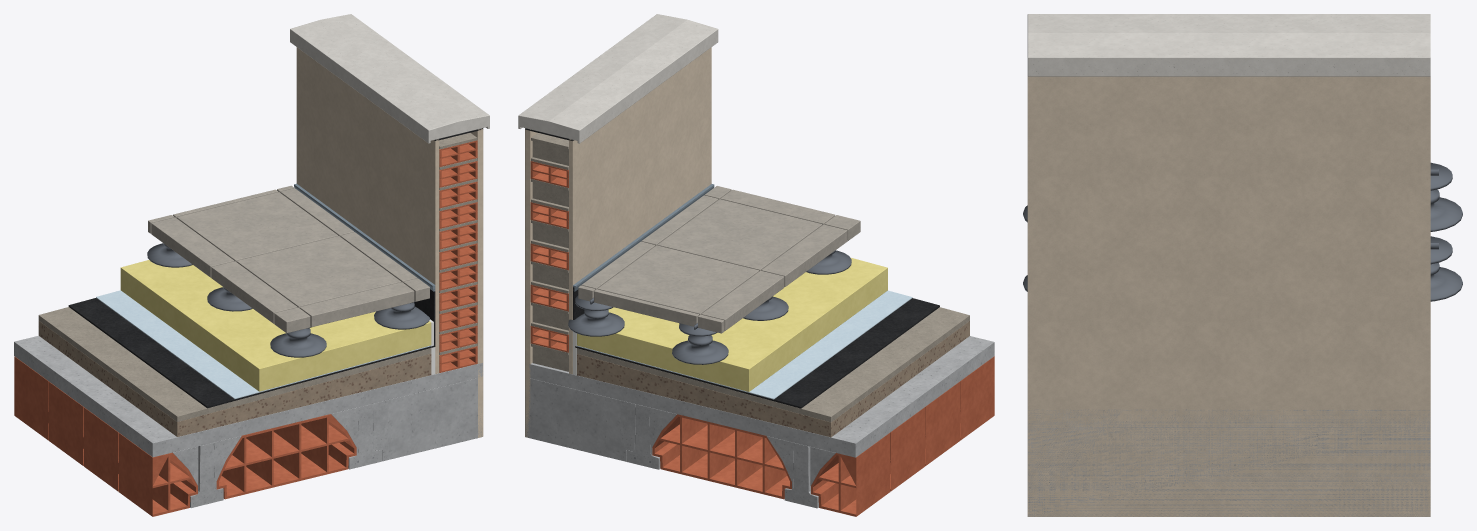
File: detalle4_invertida_plots.glb
3 renders of one model, left to right at view 1: azimuth 30°, elevation 25°; view 2: azimuth 150°, elevation 25°; view 3: azimuth 270°, elevation 25°, orthographic. The views are drawn at different scales.
Visible parts, largest first — view 1: D4_Peto_Enfoscado, D4_Losas, D4_SR_Bovedillas, D4_SR_Forjado, D4_AT_XPS, D4_Albardilla, D4_Peto_Bricks, D4_FP_Core, D4_FP_Reg, D4_I_Membrane, D4_SR_Zuncho, D4_CS_Geotextile (+1 smaller); view 2: D4_Peto_Enfoscado, D4_Losas, D4_SR_Bovedillas, D4_SR_Forjado, D4_AT_XPS, D4_Albardilla, D4_FP_Core, D4_FP_Reg, D4_I_Membrane, D4_SR_Zuncho, D4_Plots, D4_CS_Geotextile (+1 smaller); view 3: D4_Peto_Enfoscado, D4_Albardilla, D4_SR_Zuncho, D4_SR_Forjado, D4_Plots.
Boxes of the visible parts, left/top/right/bottom form: D4_Peto_Enfoscado: left=296, top=47, right=483, bottom=437; D4_Losas: left=148, top=185, right=429, bottom=333; D4_SR_Bovedillas: left=14, top=356, right=356, bottom=516; D4_SR_Forjado: left=14, top=335, right=483, bottom=507; D4_AT_XPS: left=120, top=260, right=431, bottom=391; D4_Albardilla: left=290, top=14, right=489, bottom=143; D4_Peto_Bricks: left=439, top=140, right=477, bottom=372; D4_FP_Core: left=38, top=321, right=431, bottom=436; D4_FP_Reg: left=38, top=307, right=431, bottom=421; D4_I_Membrane: left=68, top=183, right=435, bottom=408; D4_SR_Zuncho: left=387, top=378, right=482, bottom=459; D4_CS_Geotextile: left=96, top=290, right=431, bottom=399; D4_Peto_Enfoscado: left=525, top=47, right=711, bottom=437; D4_Losas: left=578, top=186, right=860, bottom=333; D4_SR_Bovedillas: left=652, top=356, right=994, bottom=516; D4_SR_Forjado: left=529, top=336, right=994, bottom=508; D4_AT_XPS: left=577, top=257, right=887, bottom=391; D4_Albardilla: left=518, top=14, right=718, bottom=143; D4_FP_Core: left=577, top=321, right=969, bottom=437; D4_FP_Reg: left=577, top=307, right=969, bottom=422; D4_I_Membrane: left=573, top=184, right=939, bottom=408; D4_SR_Zuncho: left=525, top=378, right=620, bottom=460; D4_Plots: left=568, top=250, right=851, bottom=364; D4_CS_Geotextile: left=577, top=290, right=912, bottom=399; D4_Peto_Enfoscado: left=1027, top=76, right=1430, bottom=516; D4_Albardilla: left=1027, top=14, right=1430, bottom=76; D4_SR_Zuncho: left=1028, top=430, right=1430, bottom=516; D4_SR_Forjado: left=1027, top=409, right=1430, bottom=429; D4_Plots: left=1023, top=162, right=1462, bottom=301.
Size of the model in its own units: 1.24 by 1.12 by 0.96.
Materials: 14 (11 with a texture image).
